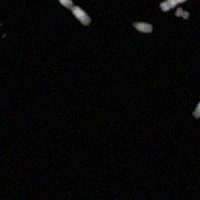chromosome: (56, 0, 90, 25), (160, 0, 193, 11), (132, 21, 152, 33), (174, 7, 189, 20)
